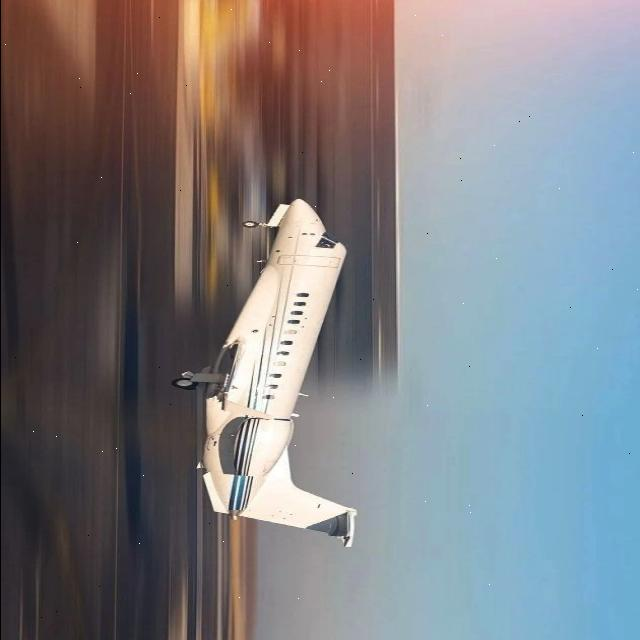jet: (92, 164, 436, 570)
